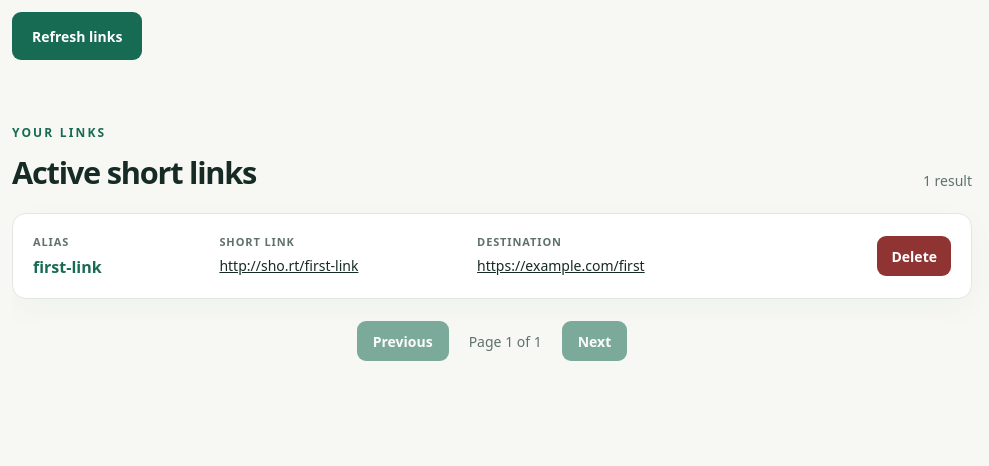
Test: ShortLinkList › keeps the link visible when deletion fails
Check: the text "first-link" is shown, box [33,256,102,278]
Click the button "Delete" at (914, 256), box [878,236,951,276]
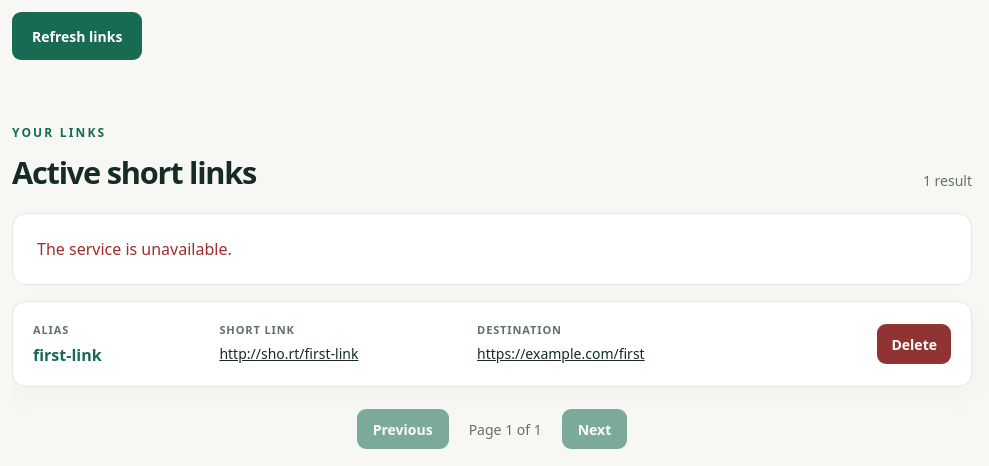
Check: the text "first-link" is shown, box [33,344,102,366]
Check: the message reads "The service is unavailable.", box [37,238,232,260]
